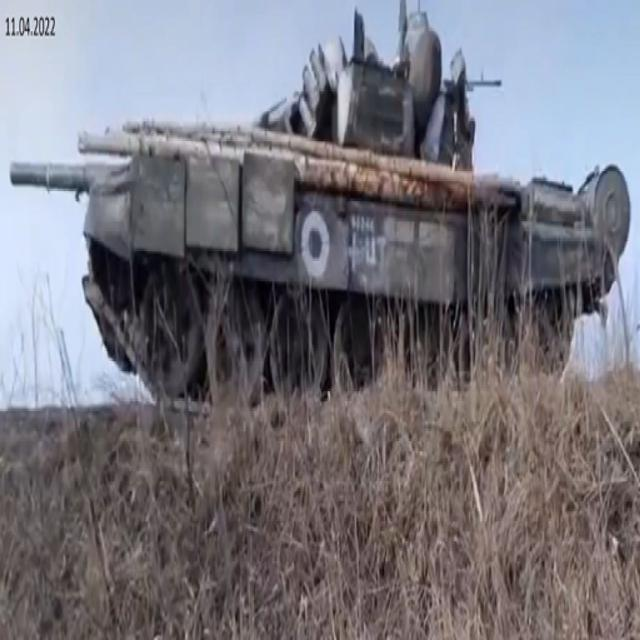TANK: (2, 11, 628, 411)
